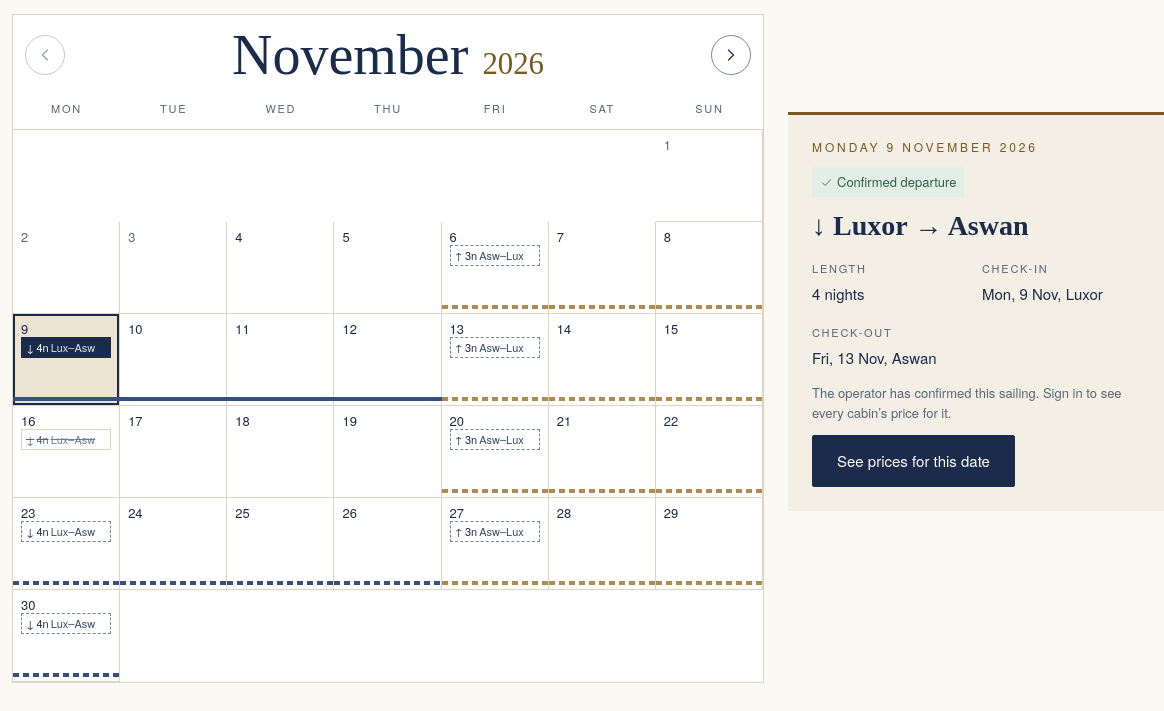
Test case: SailingCalendar › never offers to book a date that is only expected from the pattern
(page scrolled)
Click the button named "13 November 2026: Aswan → Luxor, 3 nights, Expected, not confirmed" at (495, 360), box [442,314,549,406]
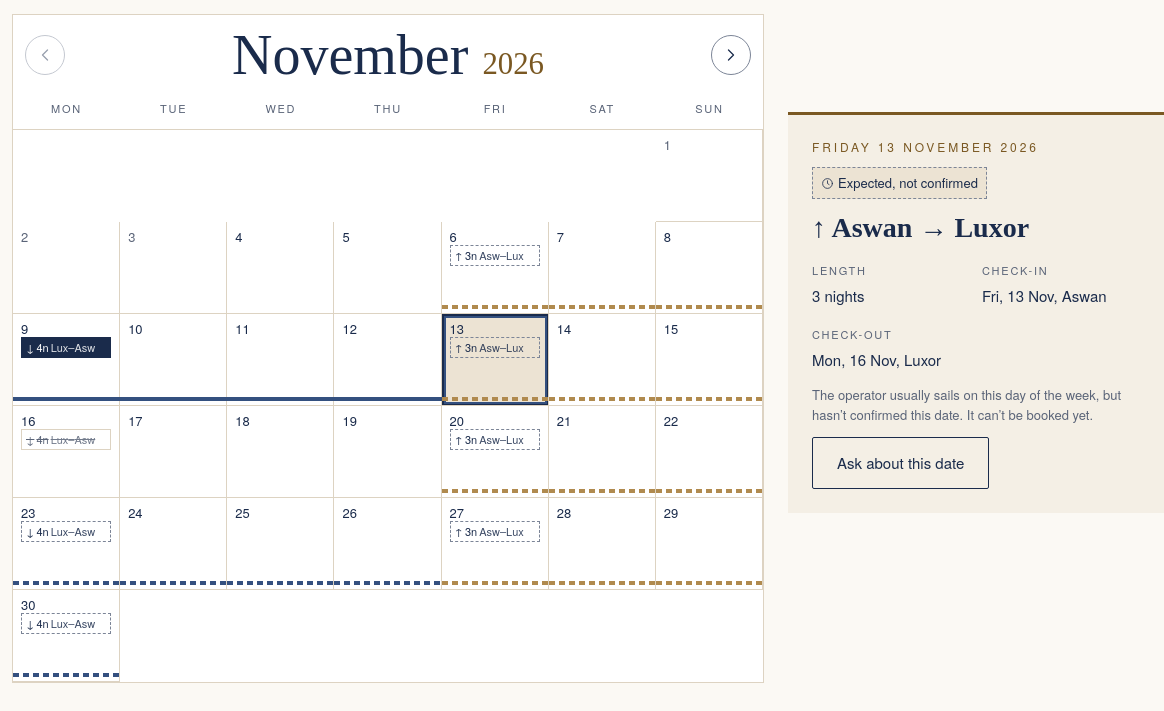
Now the link "See prices for this date" is gone
Now the text "hasn’t confirmed this date" is shown, box [812,385,1121,424]
